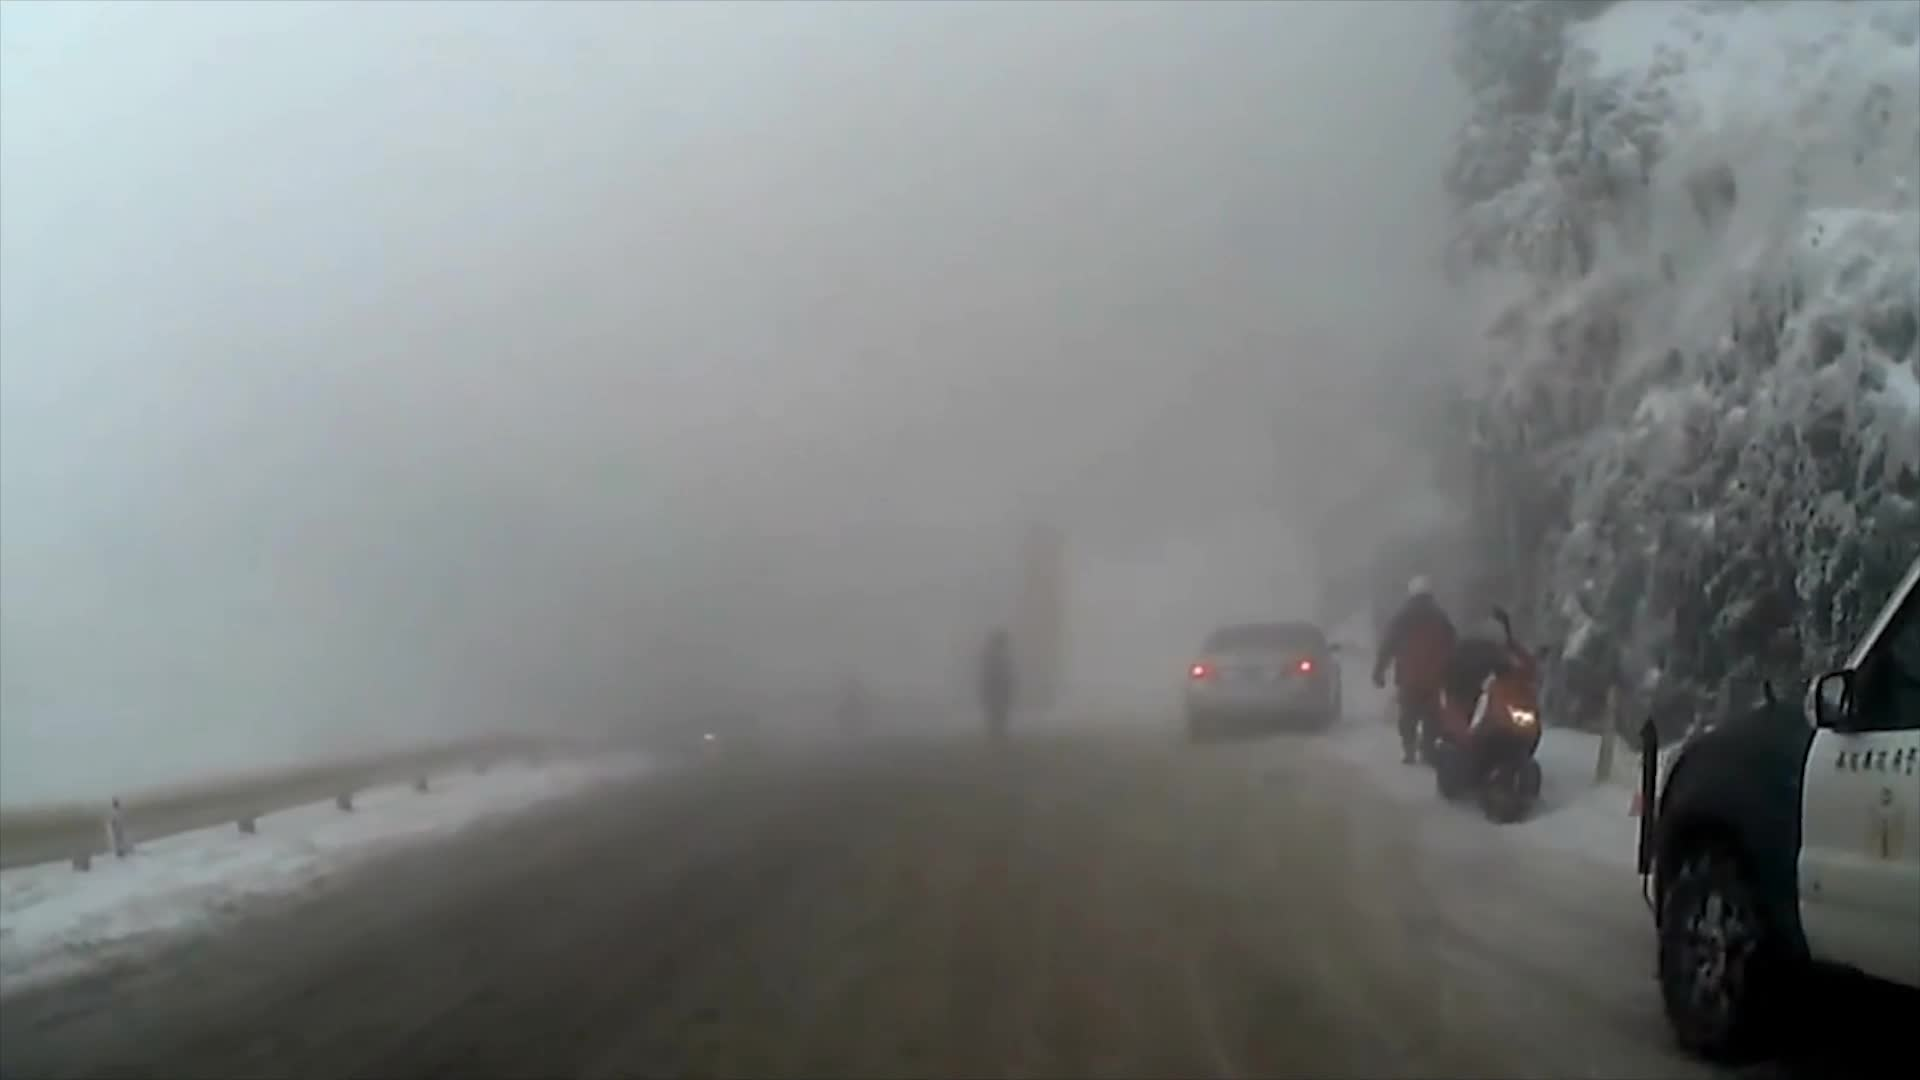pedestrian: (1374, 571, 1473, 772), (977, 633, 1015, 763)
vehicle: (1628, 536, 1917, 1080), (1179, 620, 1343, 746)
